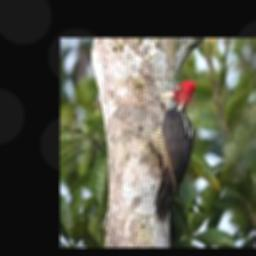Woodpecker: (126, 80, 197, 222)
